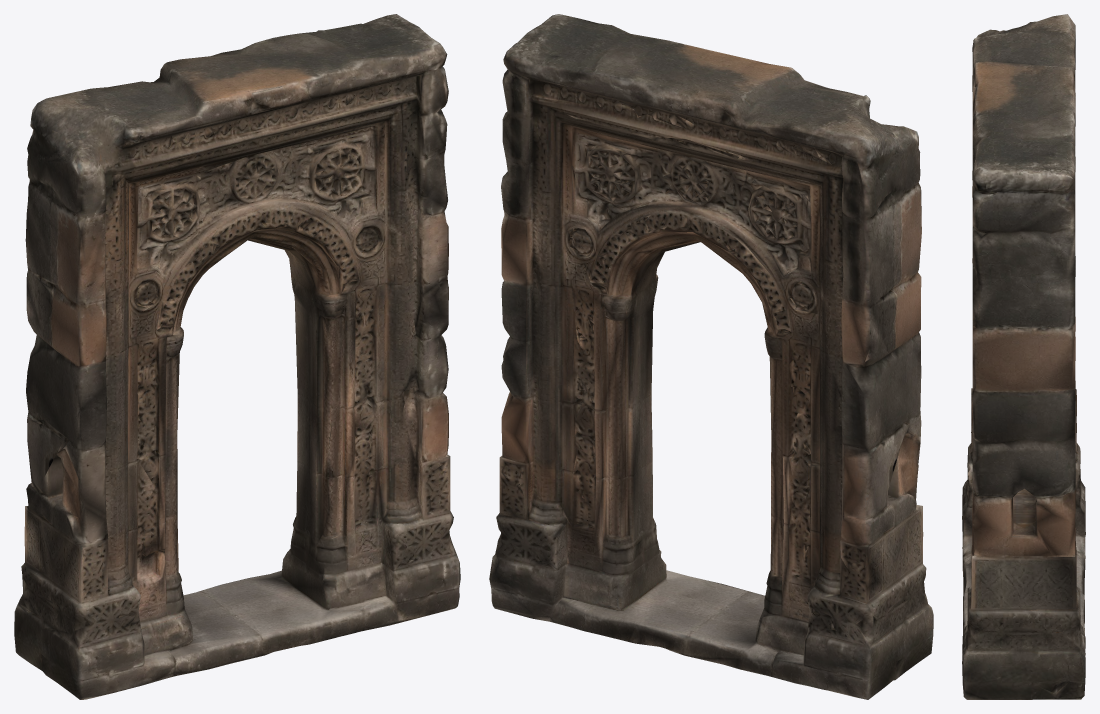
File: city_kars_ani_carved_doorway.glb
3 views of the same model, side by side, from view 1: azimuth 30°, elevation 25°; view 2: azimuth 150°, elevation 25°; view 3: azimuth 270°, elevation 25° (orthographic). The views are drawn at different scales.
Parts seen in each view (by area): view 1: Mesh1.0; view 2: Mesh1.0; view 3: Mesh1.0.
Boxes of the visible parts, x1,y1,x2,y2 form: Mesh1.0: (14, 14, 460, 699); Mesh1.0: (489, 14, 933, 699); Mesh1.0: (962, 14, 1085, 699).
Size of the model in its own units: 3.57 by 5 by 1.06.
Materials: 1 (1 with a texture image).
